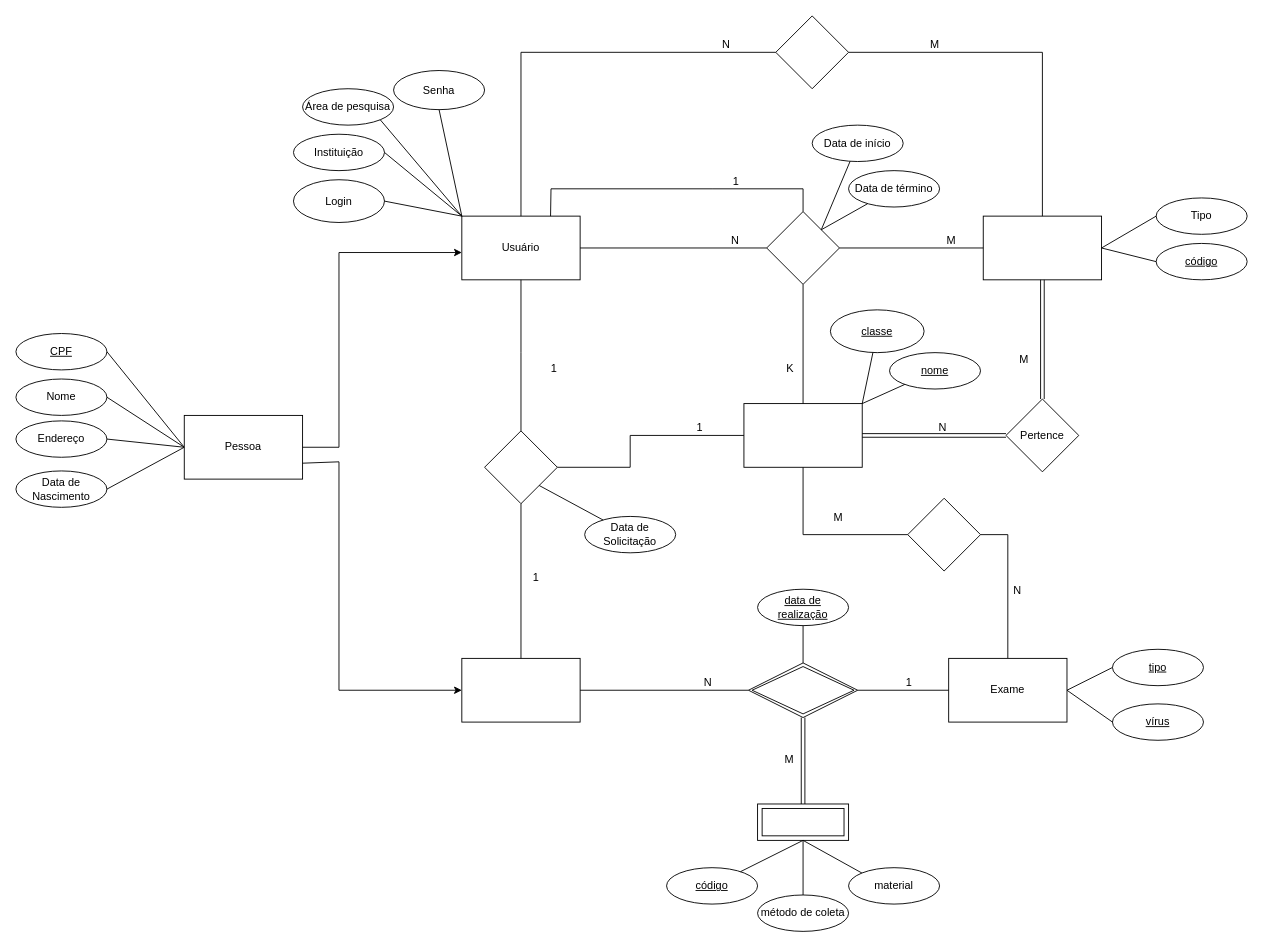
The diagram is 1263 pixels wide and 947 high, and some of its shapes have lost their labels. The shapes that lost their labels are listed below. From the top down, each one's centre as x and y in pixels, then its label:
the point at 812,52: Possui
the point at 802,247: Tutelamento
the point at 1042,247: Perfil
the point at 802,435: Serviço
the point at 520,467: Registro
the point at 944,534: Gerencia
the point at 520,689: Paciente
the point at 803,690: Realiza
the point at 803,821: Amostra
